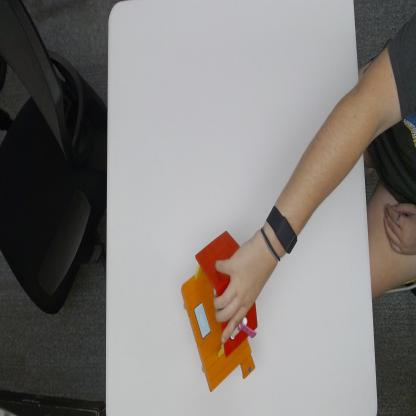Arm: (290, 53, 397, 224)
Hand: (218, 233, 278, 332)
House: (181, 231, 258, 391)
